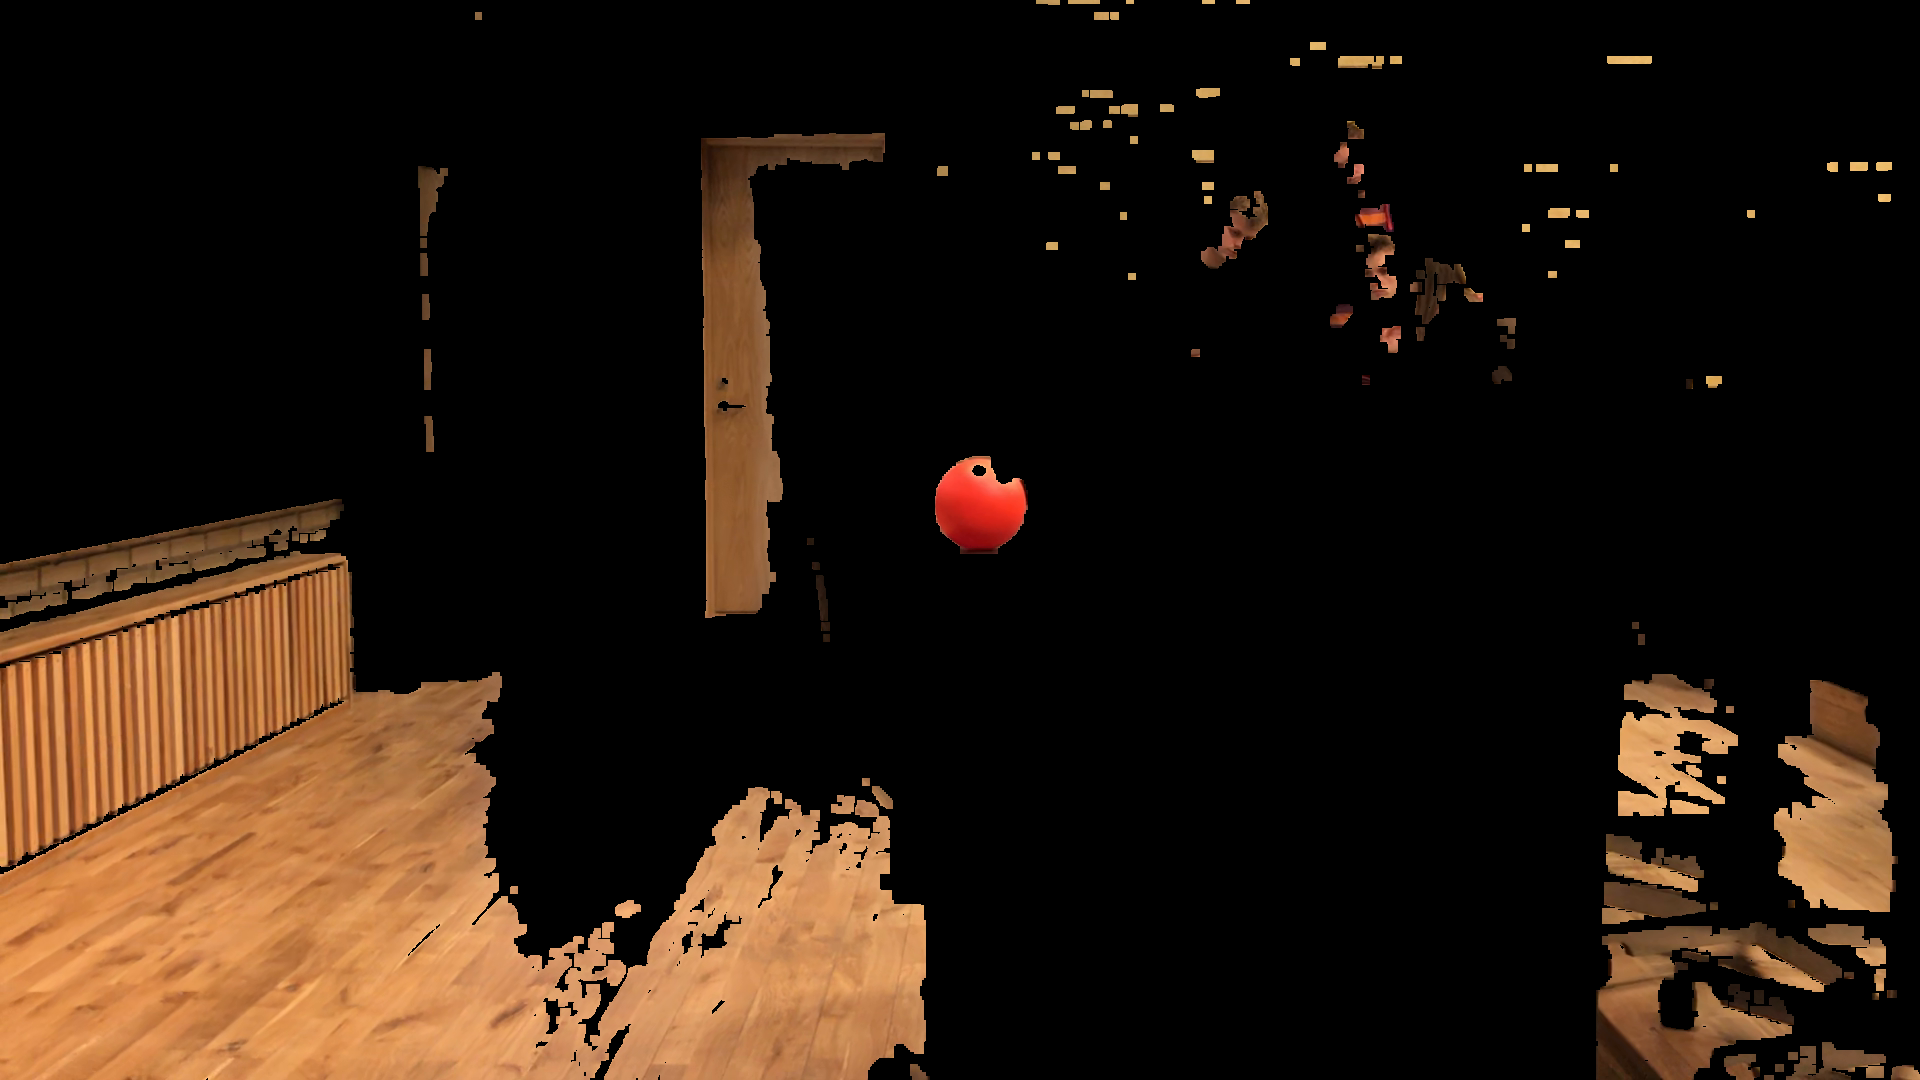Ball: (934, 458, 1034, 553)
